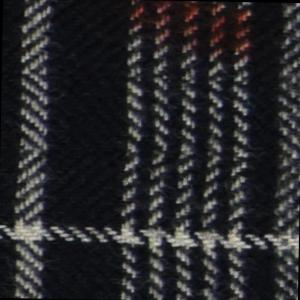Stain: (119, 1, 271, 70)
